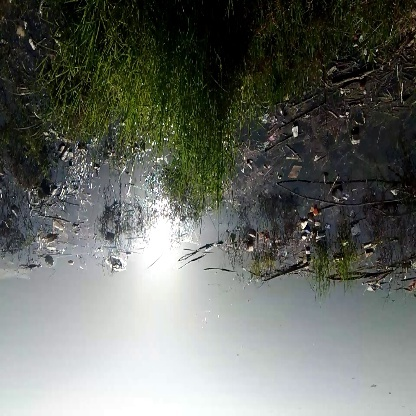branch: (276, 181, 409, 215)
